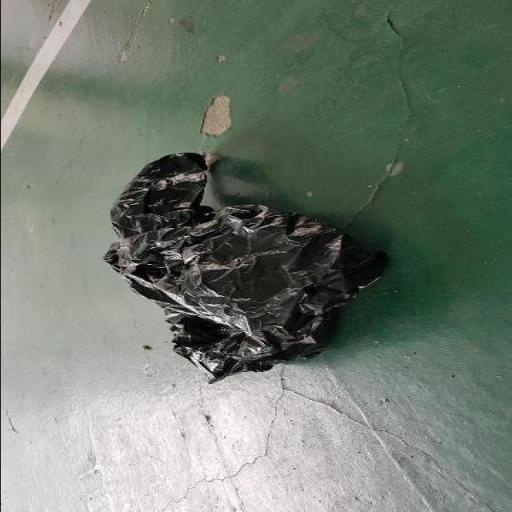plastic-bag: (100, 151, 392, 387)
